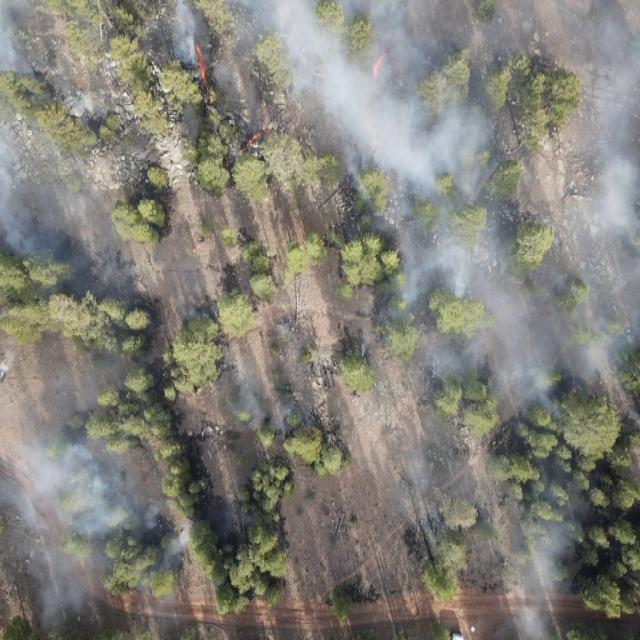fire: (194, 44, 218, 98), (236, 125, 270, 156), (373, 44, 389, 80), (474, 179, 490, 199), (224, 158, 232, 168), (570, 386, 578, 396)
smoke: (299, 104, 640, 248), (165, 2, 640, 103), (0, 377, 170, 640), (404, 447, 575, 640), (387, 250, 640, 370), (0, 0, 112, 259), (433, 368, 640, 428), (224, 374, 304, 444), (175, 276, 223, 320)
